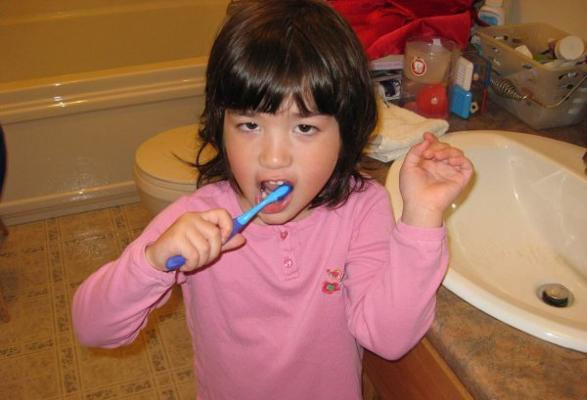person: (71, 2, 471, 400)
